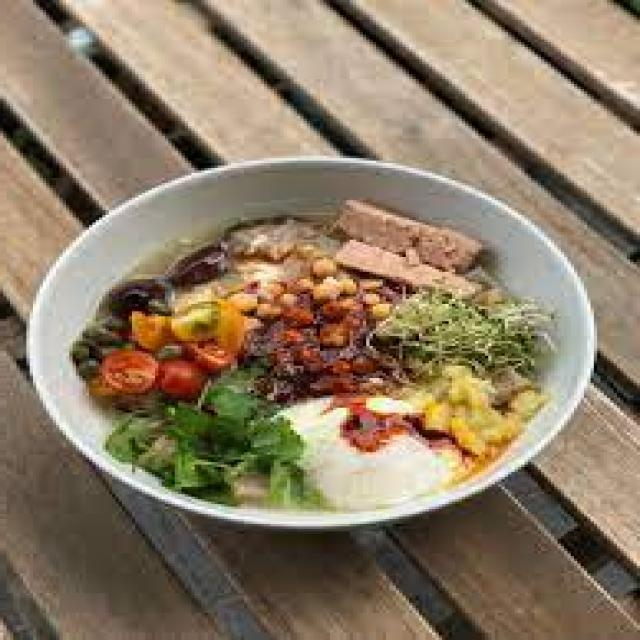Lablabi: (2, 155, 600, 546)
